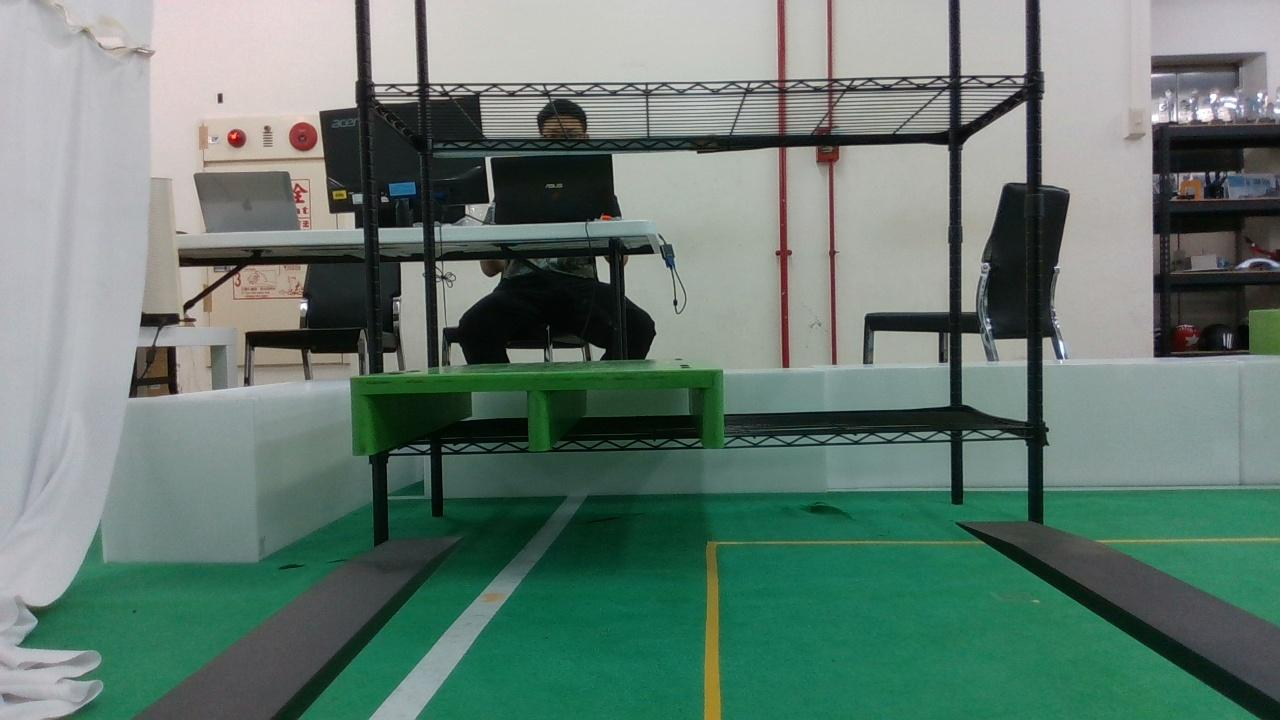Pallet: (344, 370, 727, 454)
